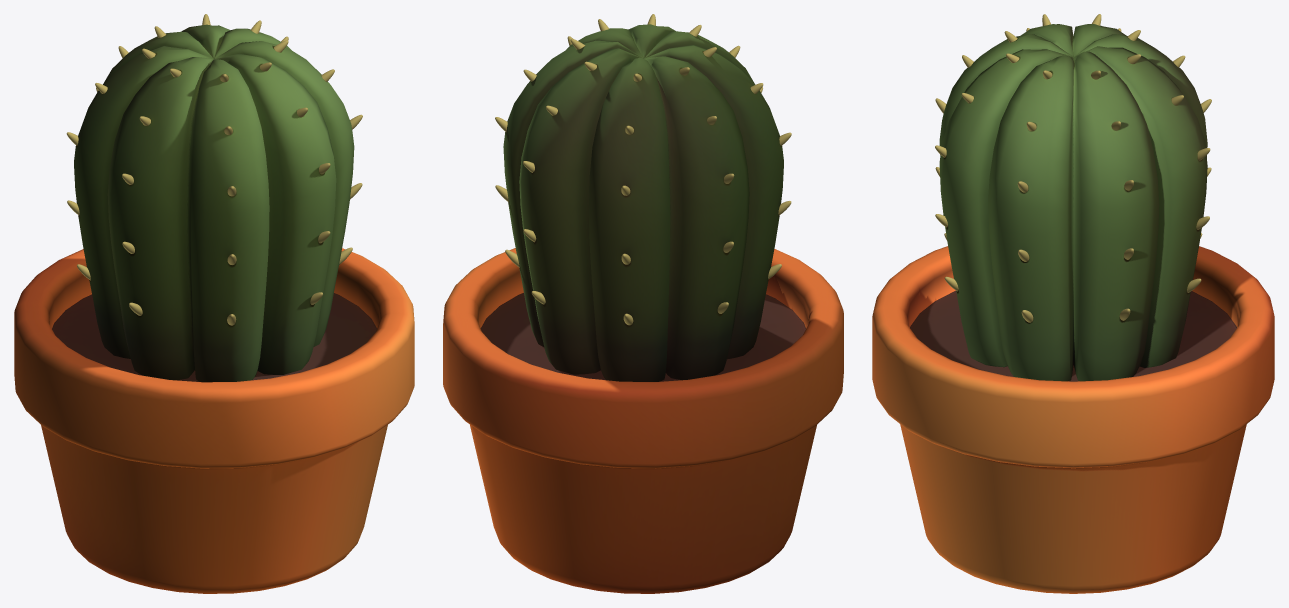
The model's file is cactus_day.glb.
3 views of the same model, side by side, from view 1: azimuth 30°, elevation 25°; view 2: azimuth 150°, elevation 25°; view 3: azimuth 270°, elevation 25° (orthographic).
Visible parts, largest first — view 1: Pot, Cactus Base, Cactus Spikes; view 2: Pot, Cactus Base, Cactus Spikes; view 3: Pot, Cactus Base, Cactus Spikes.
Part boxes in pixels (bbox=[...]): Pot: bbox=[14, 248, 414, 593]; Cactus Base: bbox=[74, 24, 354, 382]; Cactus Spikes: bbox=[66, 14, 362, 325]; Pot: bbox=[443, 248, 843, 593]; Cactus Base: bbox=[503, 24, 783, 381]; Cactus Spikes: bbox=[495, 14, 791, 325]; Pot: bbox=[872, 246, 1274, 593]; Cactus Base: bbox=[939, 24, 1207, 381]; Cactus Spikes: bbox=[935, 14, 1211, 322].
Size of the model in its own units: 0.6632 by 0.901 by 0.6632.
Materials: 4 (3 with a texture image).
